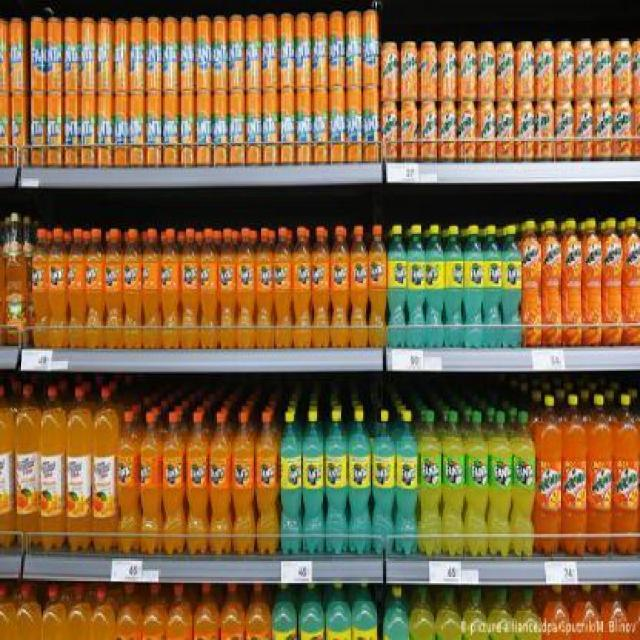Drinks: (441, 409, 465, 557), (465, 410, 489, 558), (372, 410, 396, 554), (419, 409, 442, 557), (490, 410, 513, 558), (396, 409, 419, 555), (513, 410, 536, 556), (162, 411, 185, 555), (256, 410, 279, 554), (279, 410, 302, 554), (302, 409, 325, 553), (325, 410, 348, 554), (349, 409, 372, 553), (185, 413, 208, 556), (208, 411, 231, 554), (231, 410, 254, 553), (118, 410, 140, 554), (139, 411, 161, 555), (406, 224, 426, 347), (426, 223, 446, 346), (463, 224, 483, 347), (502, 224, 522, 347), (49, 227, 69, 349), (86, 227, 106, 349), (123, 227, 143, 349), (199, 227, 219, 349), (292, 226, 312, 348), (310, 227, 330, 349), (329, 225, 349, 347), (349, 225, 369, 347), (388, 225, 406, 348), (445, 225, 463, 348), (483, 225, 501, 348), (105, 227, 123, 349), (142, 228, 160, 350), (162, 228, 180, 350), (181, 228, 199, 350), (218, 228, 236, 350), (255, 227, 273, 349), (273, 227, 291, 349), (368, 225, 386, 347), (31, 228, 49, 348), (69, 227, 86, 349), (238, 228, 255, 350), (9, 18, 29, 94), (328, 88, 346, 164), (362, 9, 379, 86), (262, 13, 279, 90), (279, 13, 296, 90), (312, 12, 329, 89), (30, 16, 47, 92), (47, 17, 64, 93), (64, 16, 81, 92), (80, 17, 97, 93), (97, 17, 114, 93), (113, 17, 130, 93), (129, 17, 146, 93), (146, 17, 163, 93), (162, 16, 179, 92), (179, 15, 196, 91), (196, 15, 213, 91), (213, 16, 230, 92), (245, 15, 262, 91), (329, 11, 346, 87), (346, 88, 363, 164), (363, 88, 380, 164), (129, 93, 146, 167), (196, 92, 213, 166), (213, 91, 230, 165), (229, 92, 246, 166), (246, 91, 263, 165), (263, 90, 280, 164), (279, 90, 296, 164), (296, 89, 313, 163), (312, 90, 329, 164), (296, 12, 312, 89), (346, 10, 362, 87), (11, 95, 28, 167), (31, 93, 48, 165), (47, 92, 64, 164), (64, 93, 81, 165), (80, 93, 97, 165), (97, 93, 114, 165), (113, 93, 130, 165), (146, 93, 163, 165), (230, 15, 246, 91), (179, 91, 195, 167), (163, 93, 179, 165)
